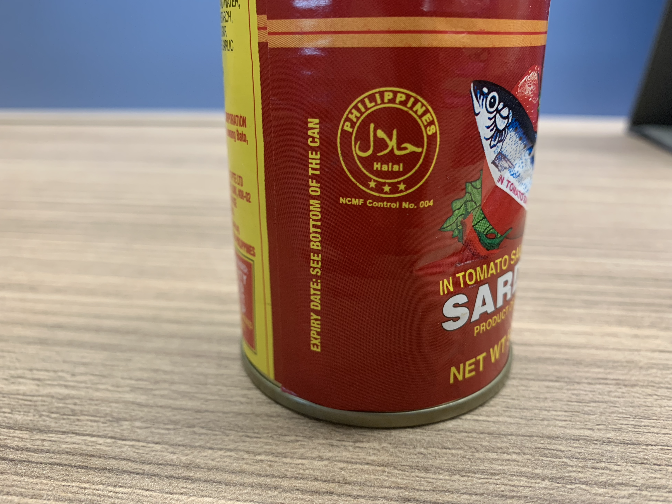halal: (354, 104, 422, 192)
